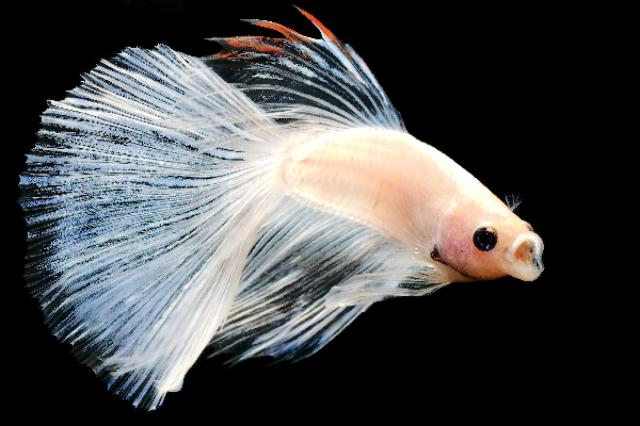Mulut: (488, 220, 560, 288)
